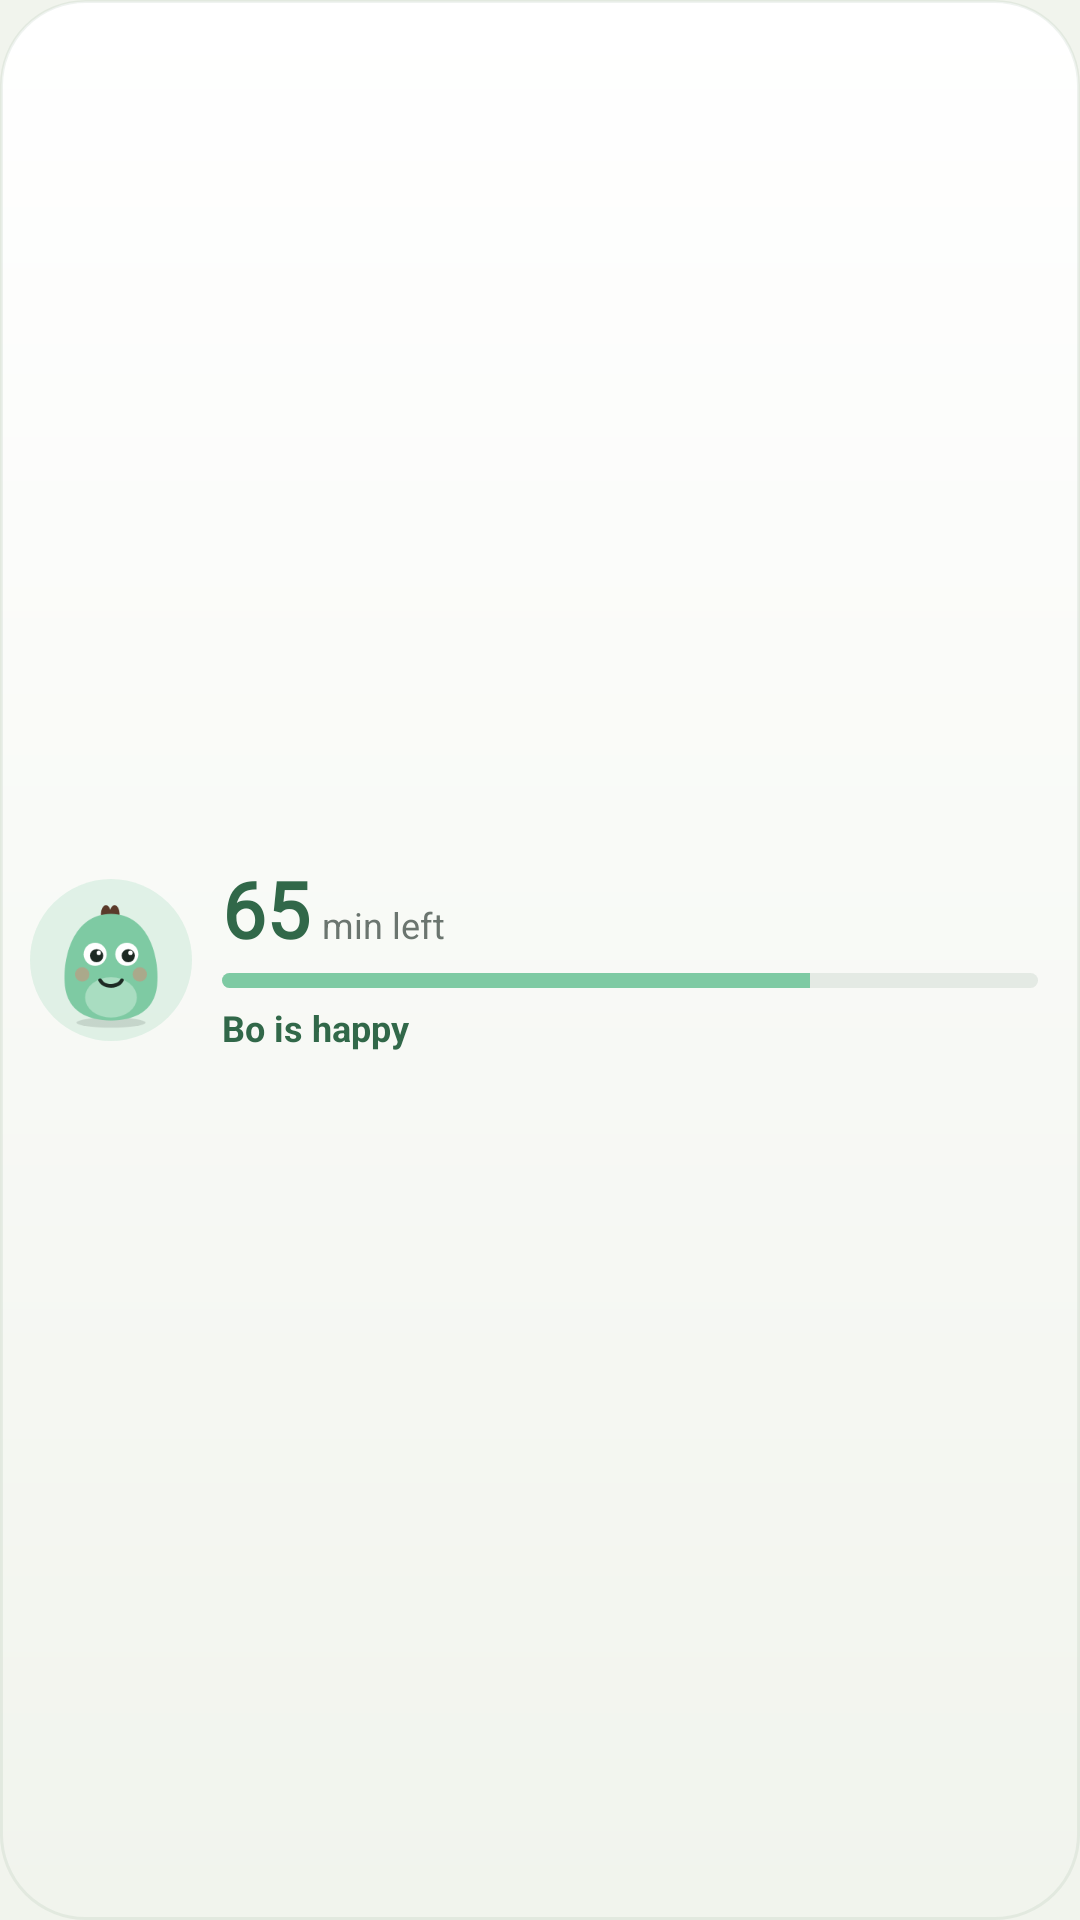

Locate icon controls on the screen. Image size 1080x1920, boxes as (x1=x1, y1=y1, x2=x2, y2=y2).
widget face: (x1=39, y1=888, x2=183, y2=1032)
